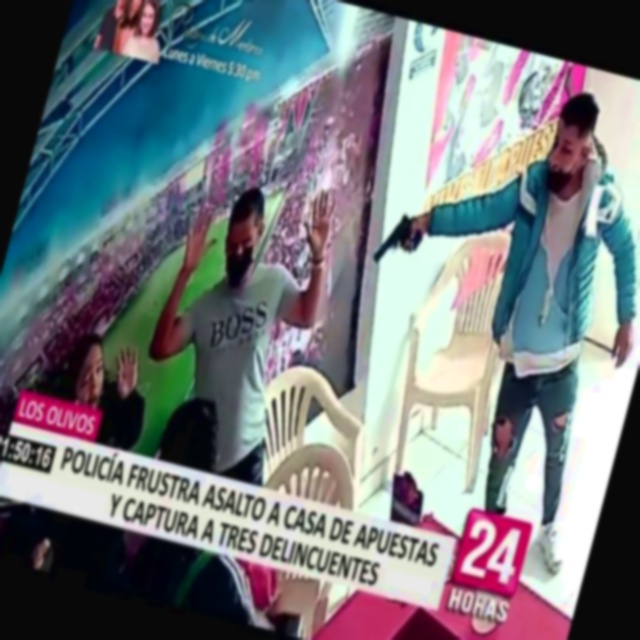gun: (365, 188, 438, 286)
